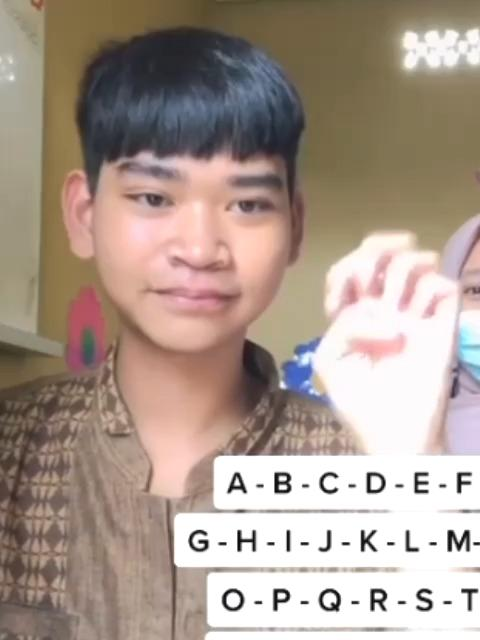E: (310, 230, 461, 432)
